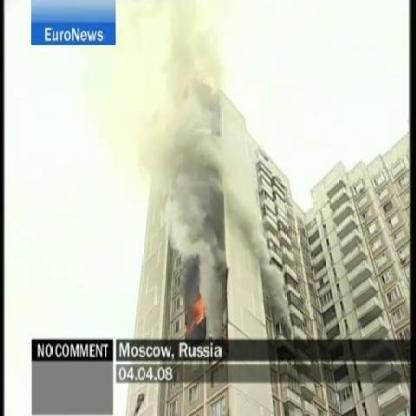fire: (194, 299, 206, 323)
